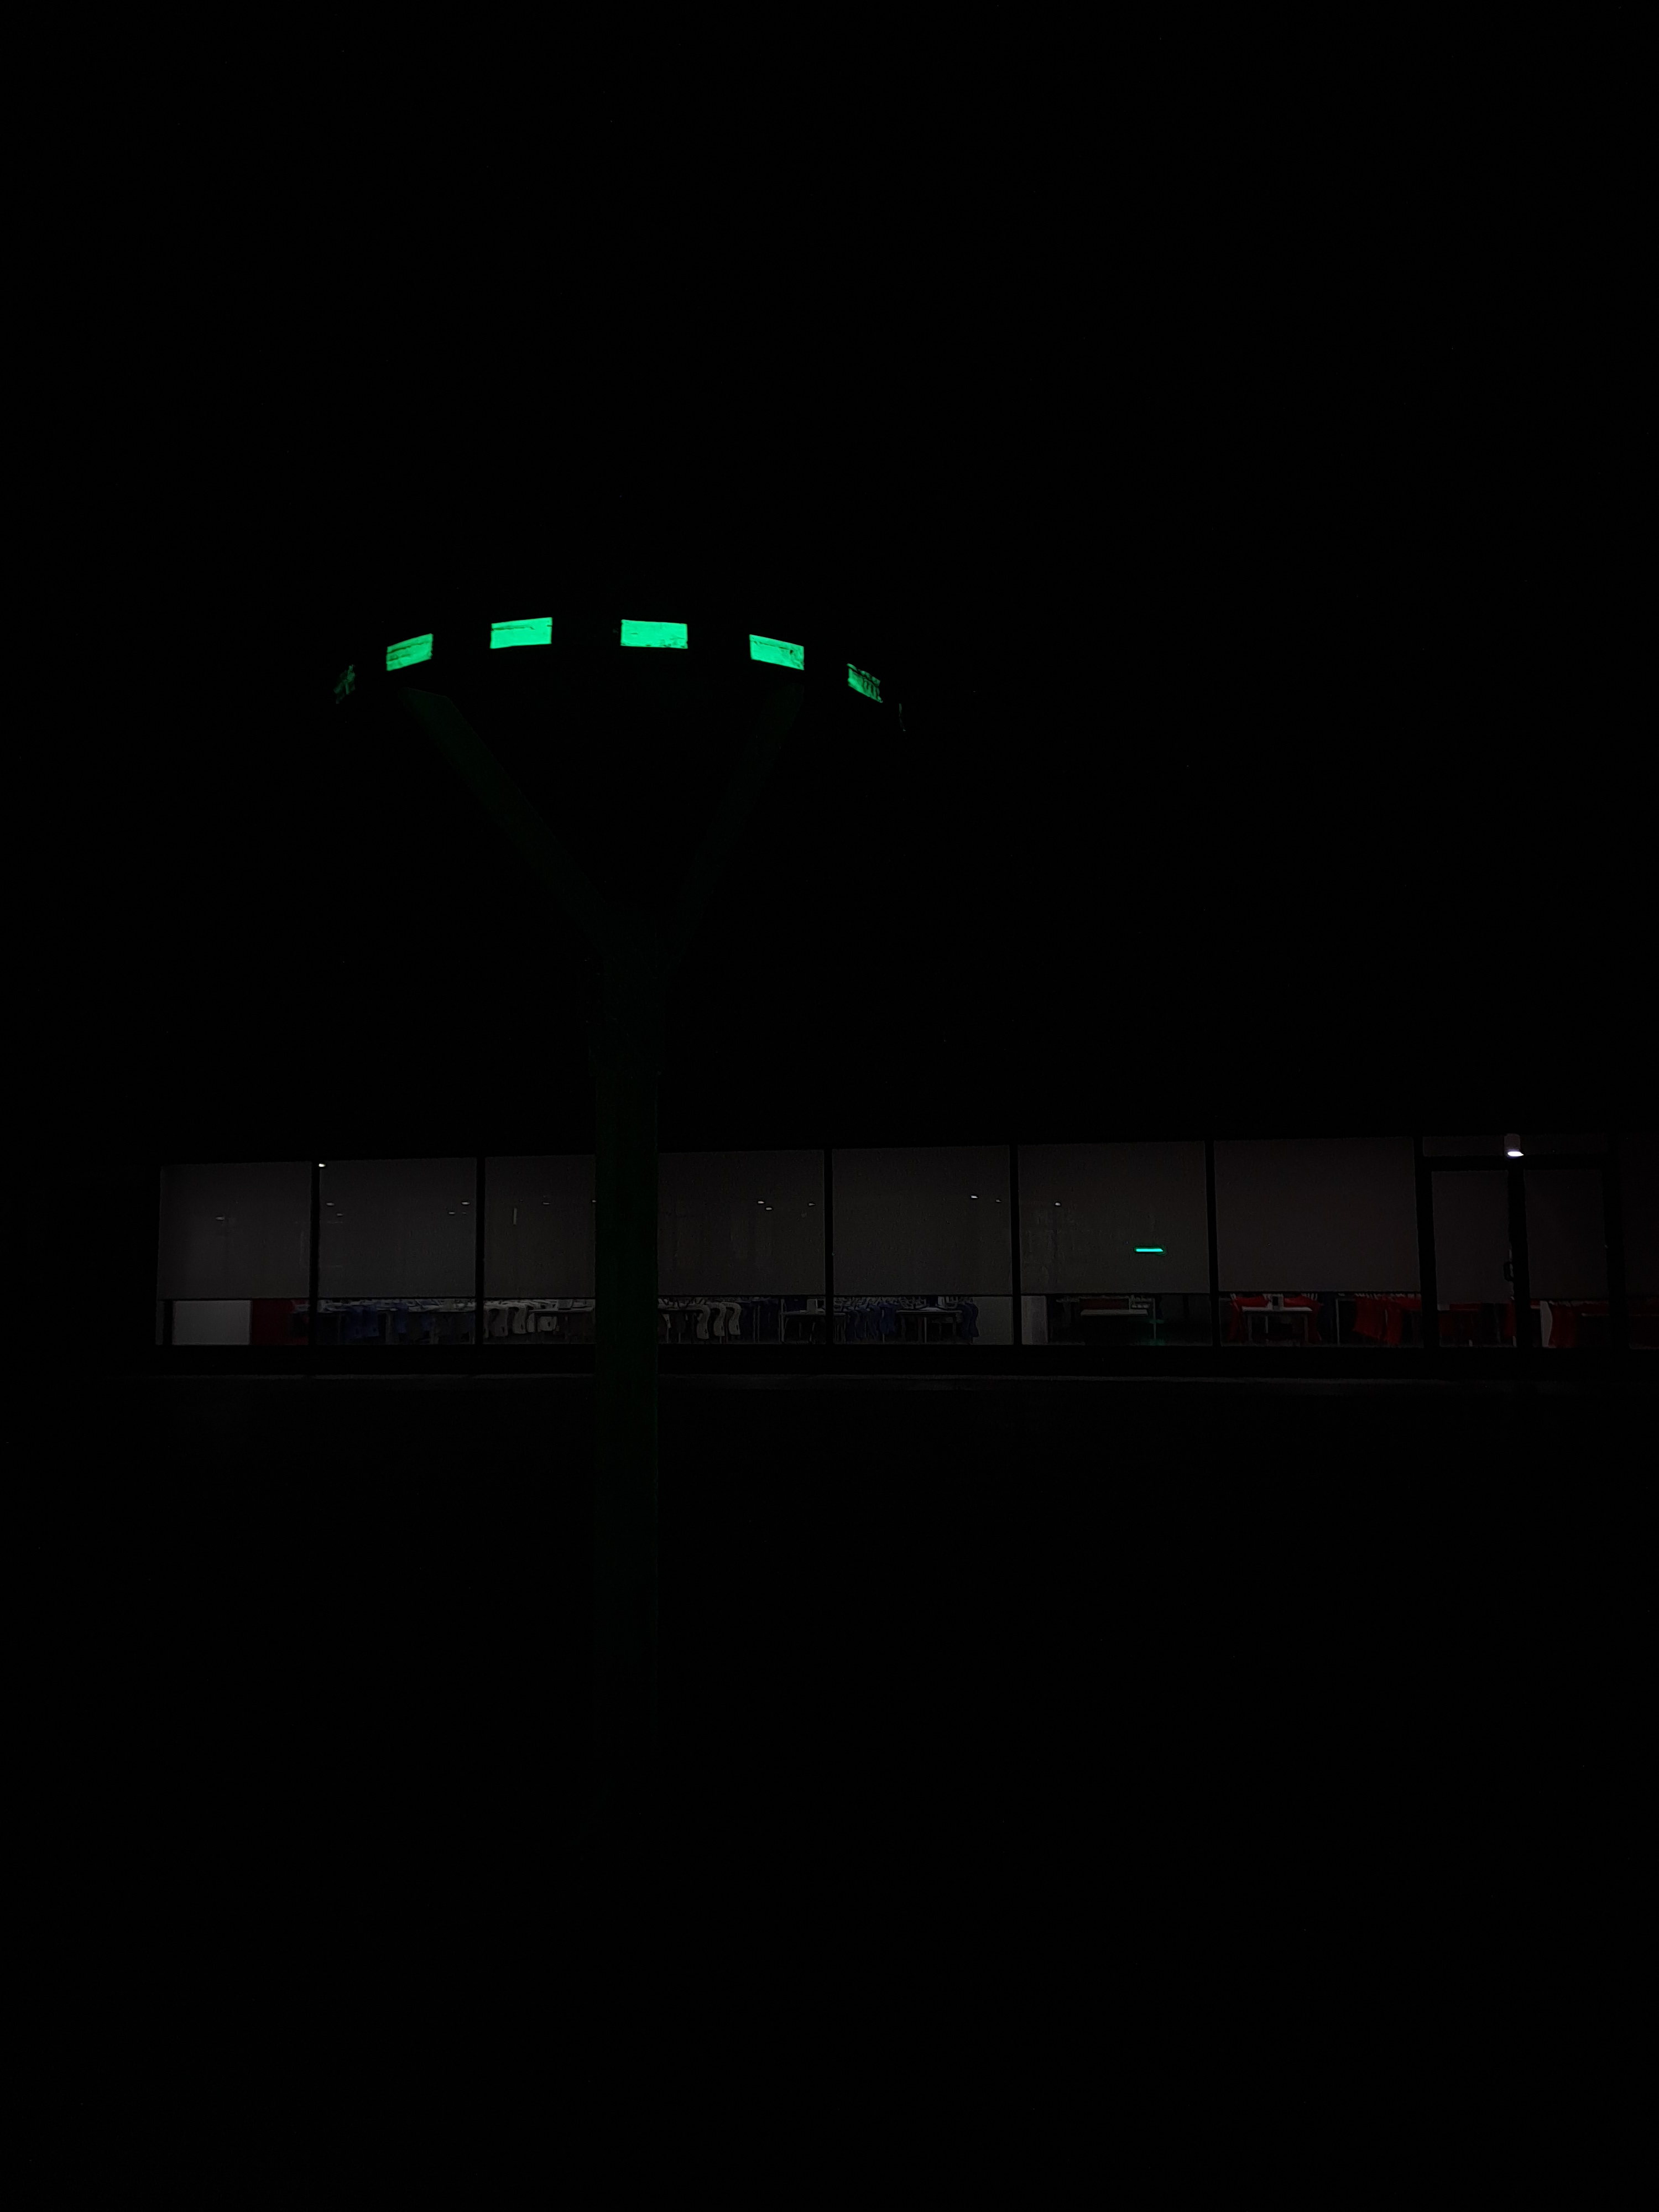hoop: (378, 608, 890, 716)
